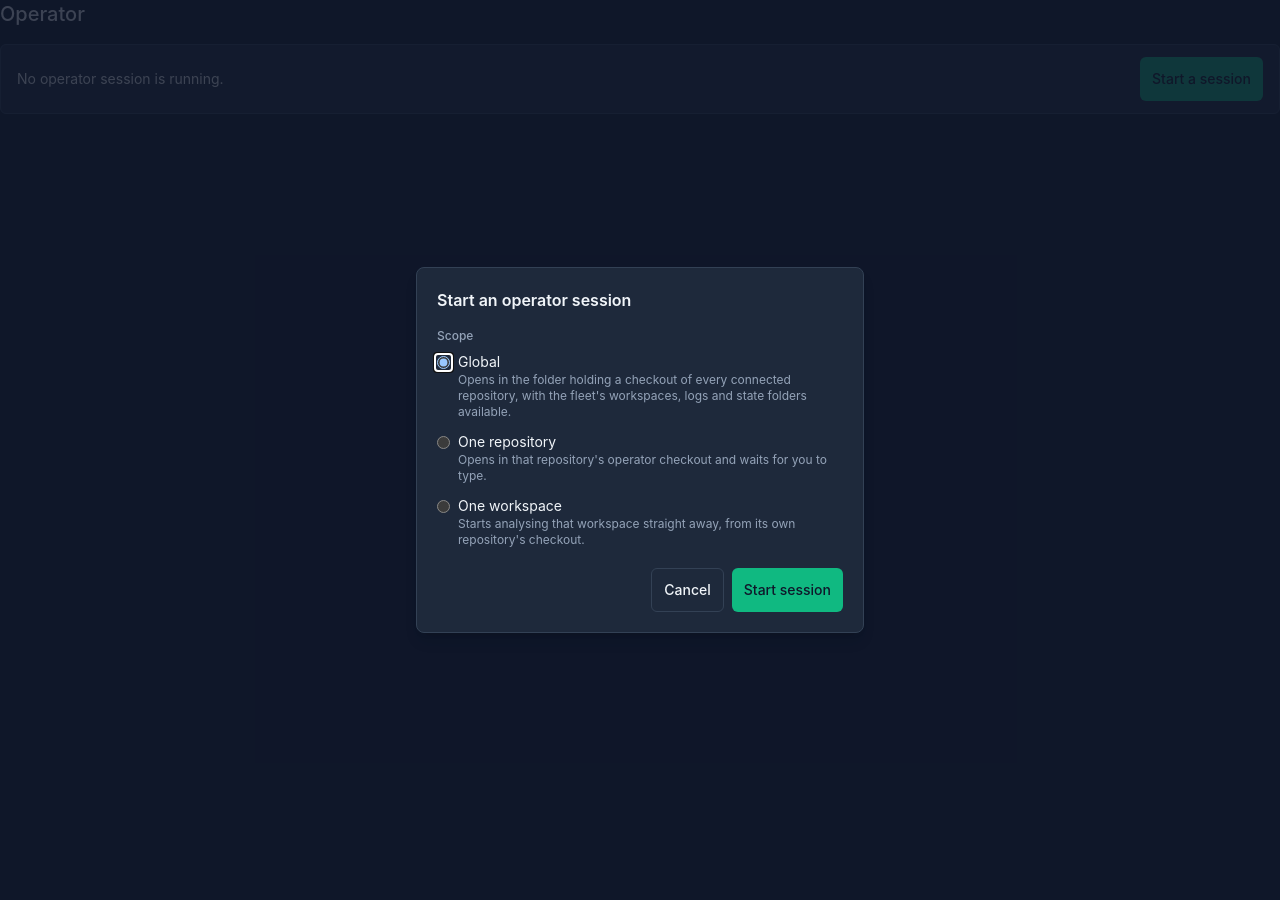
Operator page — starting a session › starts the chosen scope from the picker and then attaches to the new session
Expected: the dialog with test id "operator-scope-dialog" is shown, [416,267,864,633]
Click the radio button with test id "operator-scope-repo": click(444, 442) [437,436,450,449]
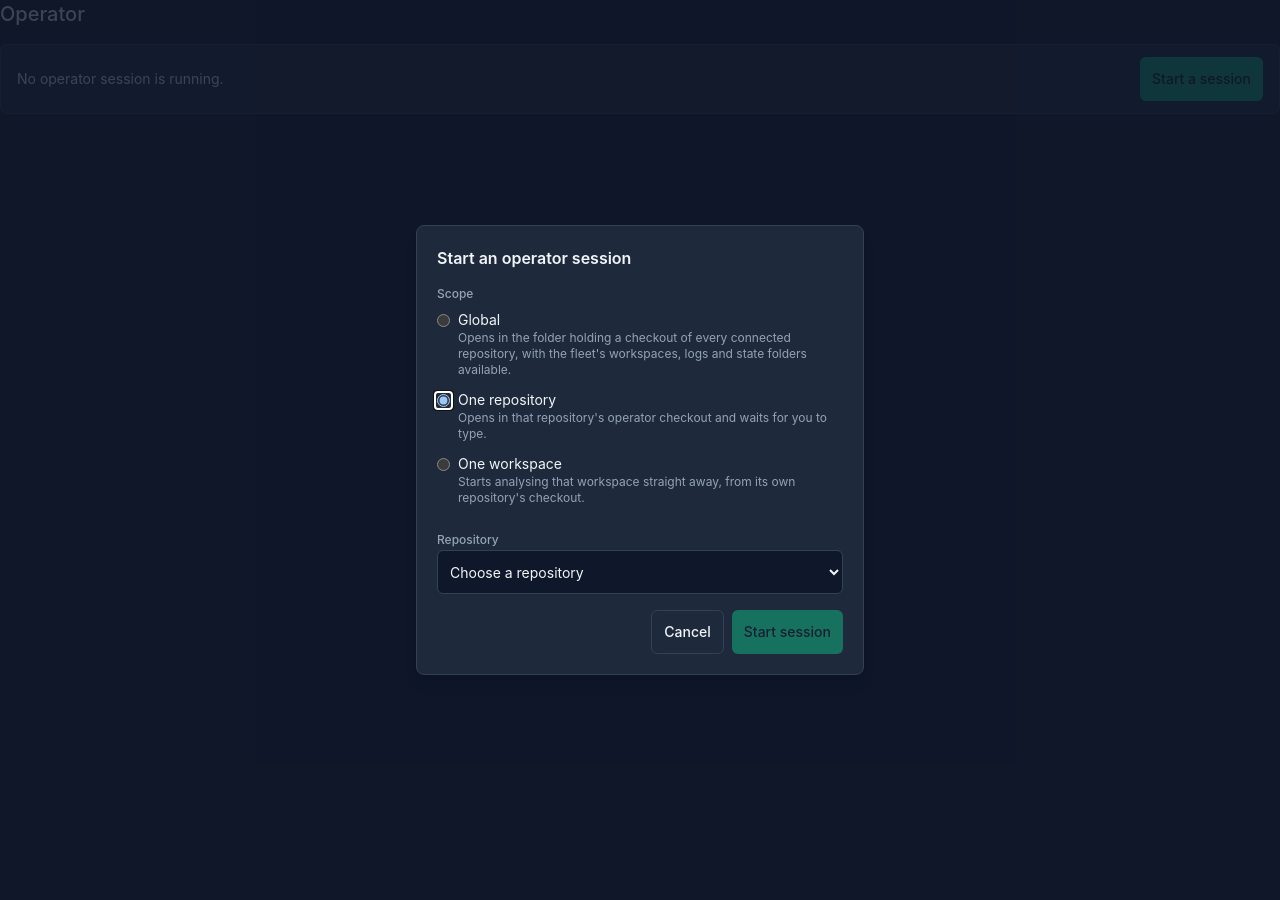
Now the dropdown with test id "operator-target" is enabled
Select "acme/widget" in the dropdown with test id "operator-target": (640, 572) [437,550,843,594]
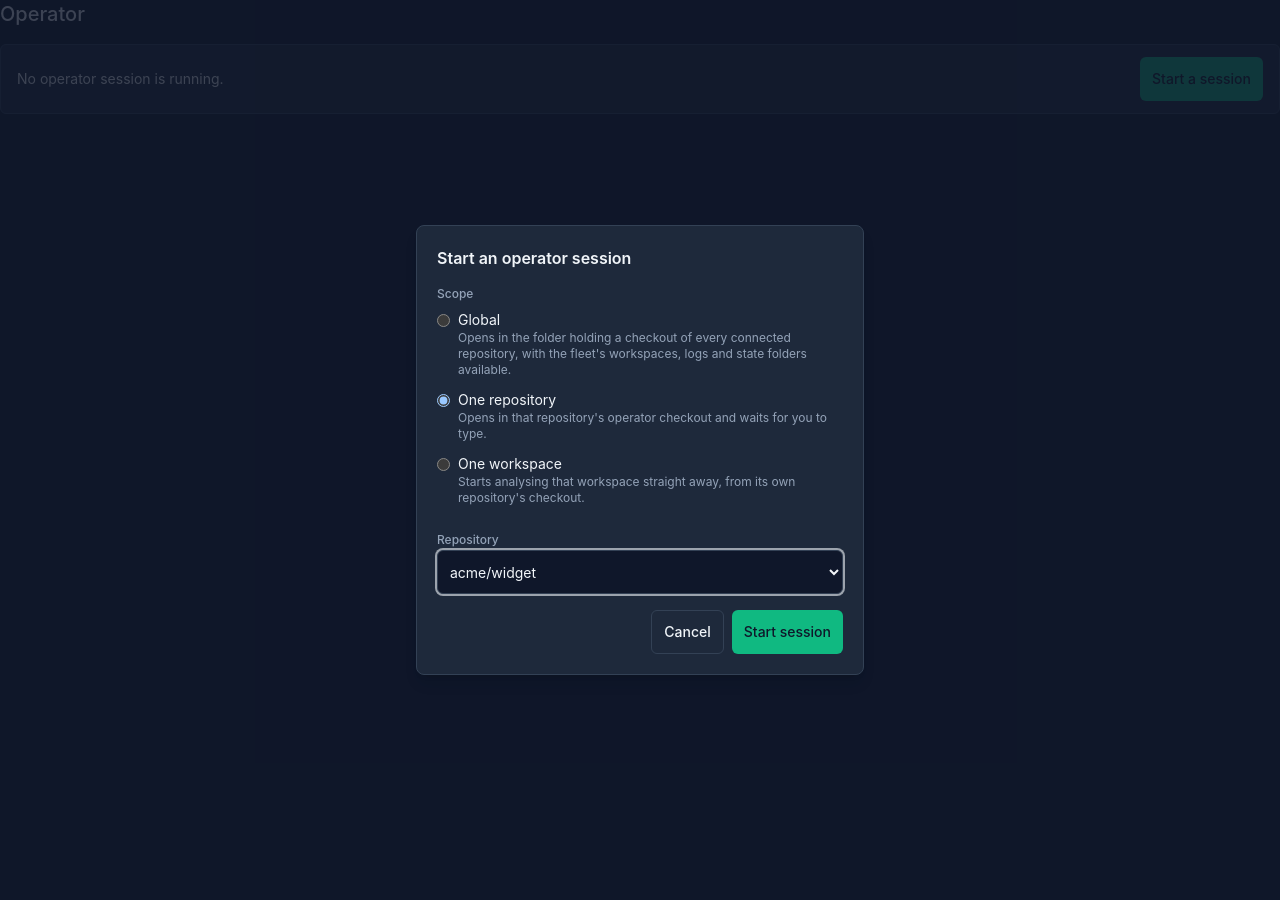
Click the button with test id "operator-start-submit": click(787, 632) [732,610,843,654]
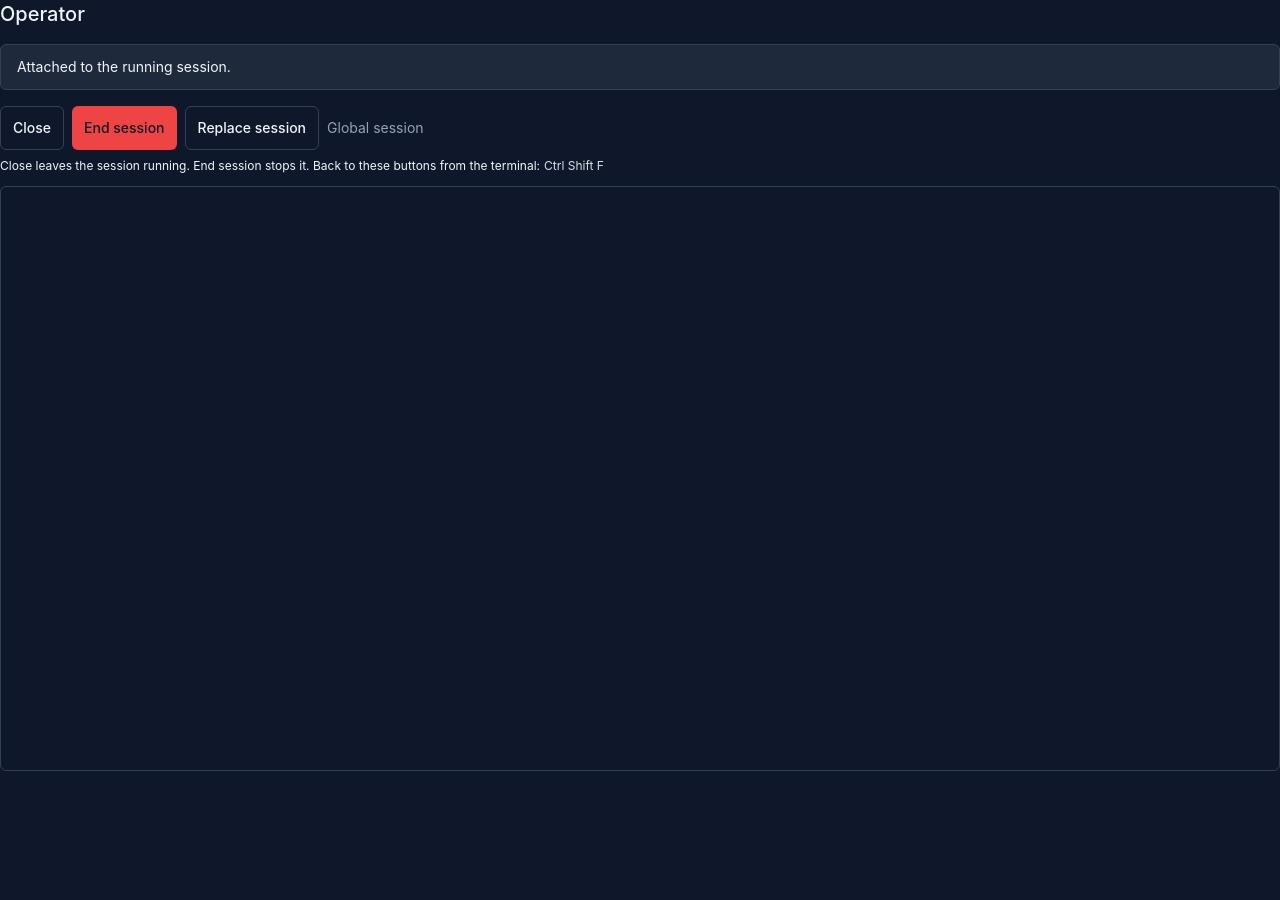
Now the element with test id "operator-terminal" is shown
Now the dialog with test id "operator-scope-dialog" is gone
Now the element with test id "operator-notice-attached" is shown, box [0,44,1279,90]
